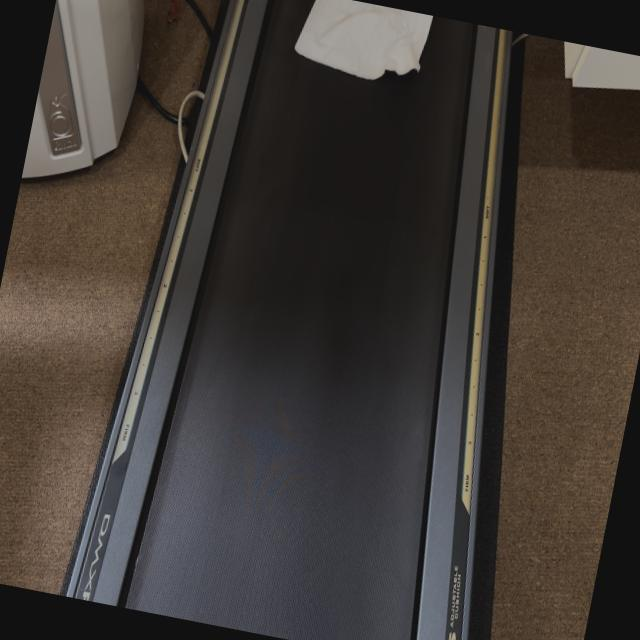Recycle: (286, 0, 438, 96)
